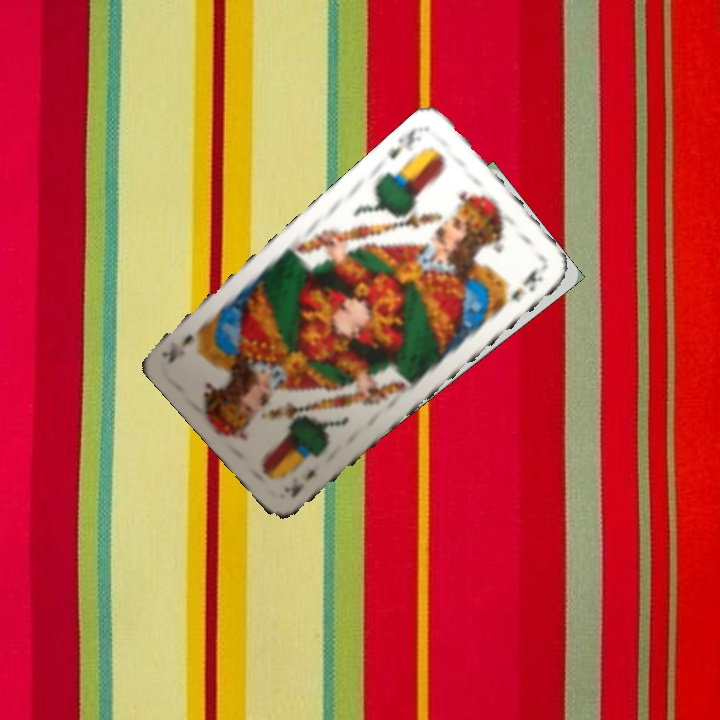EK: (385, 122, 426, 162), (283, 465, 319, 500)
